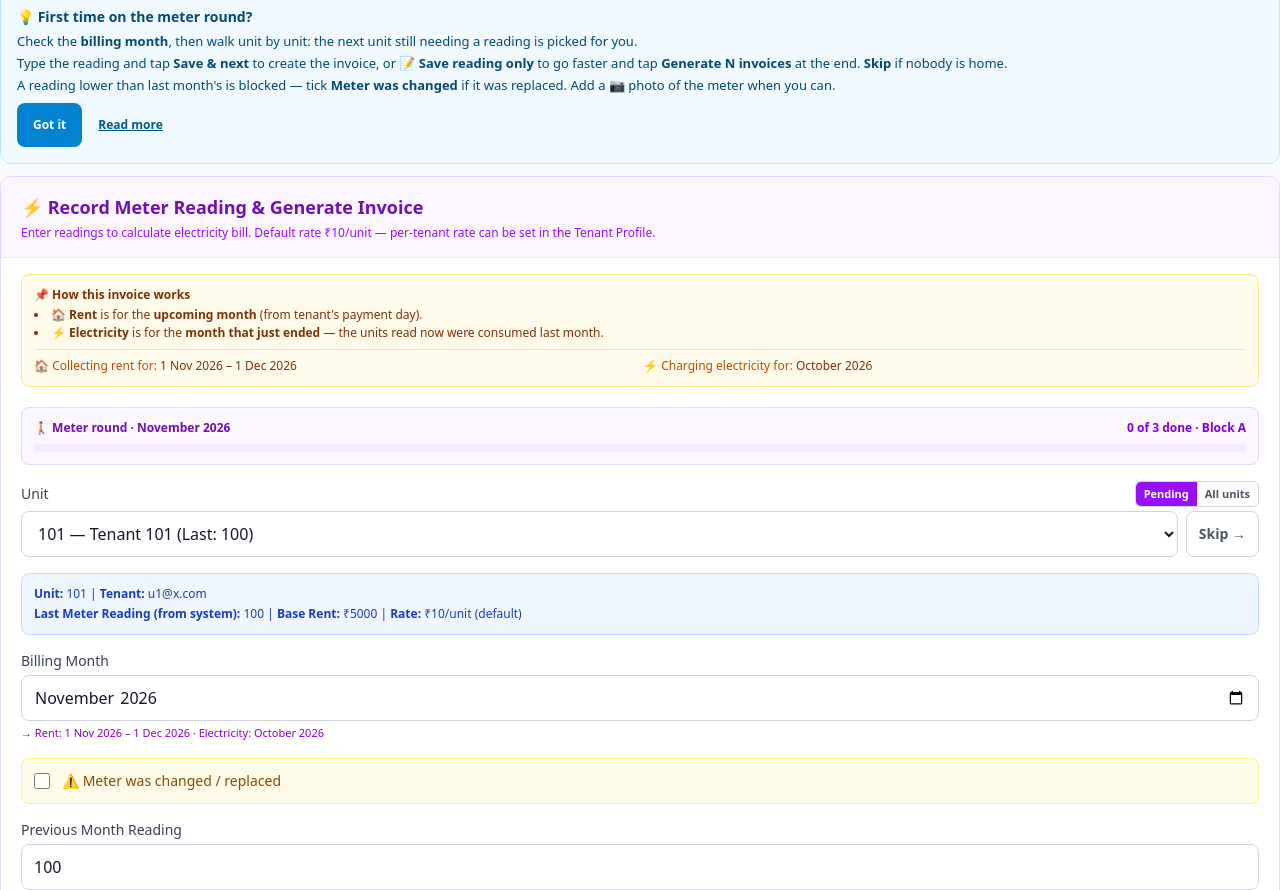
Test: MeterTab — meter round › Skip jumps to the next pending unit
Step 1. Click the button "Skip →" → [1222, 534], box x1=1186 y1=511 x2=1259 y2=557
(page scrolled)
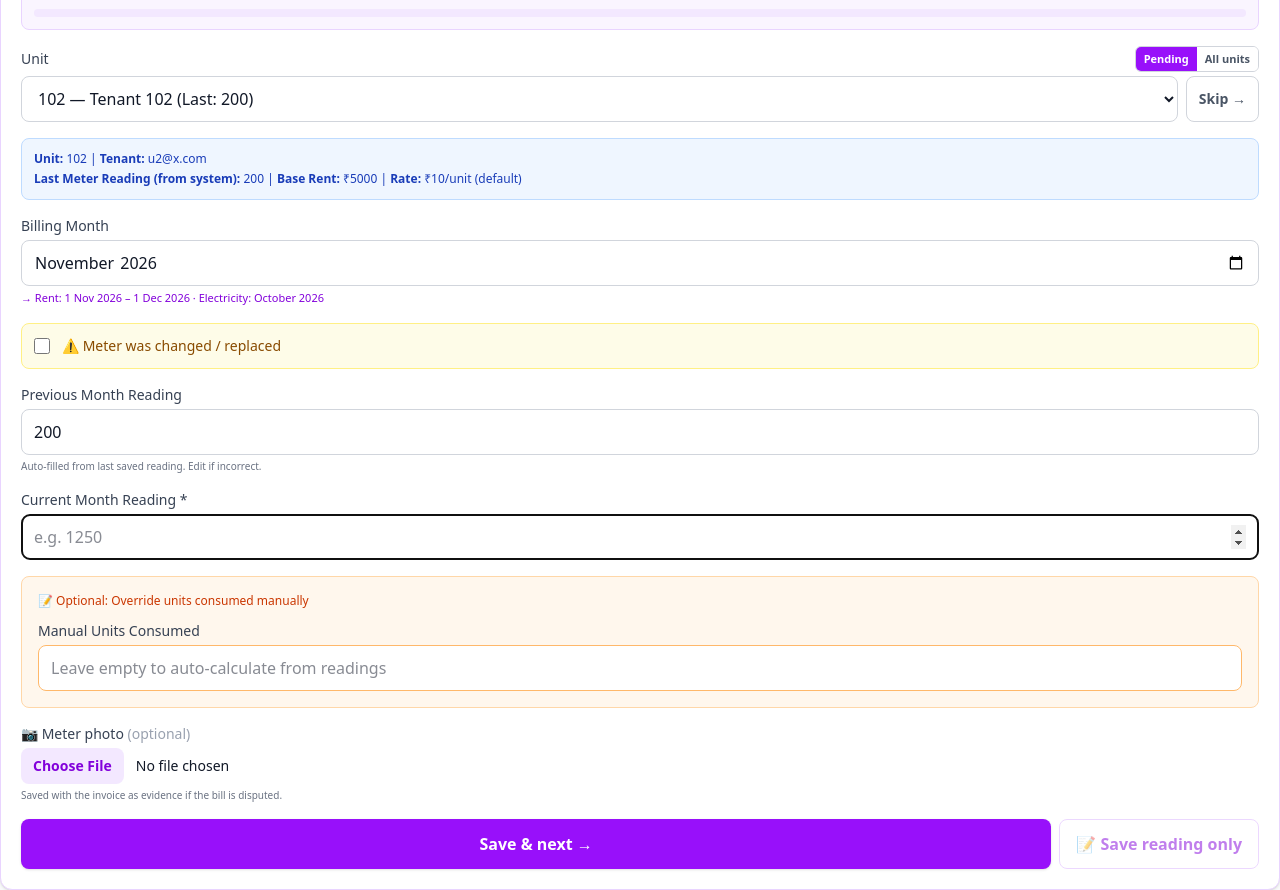
Now the dropdown labelled "Unit" shows "102 — Tenant 102 (Last: 200)", box x1=21 y1=76 x2=1178 y2=122
